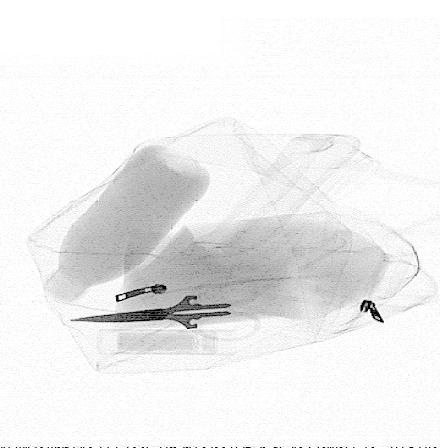Scissors: (67, 273, 264, 344)
